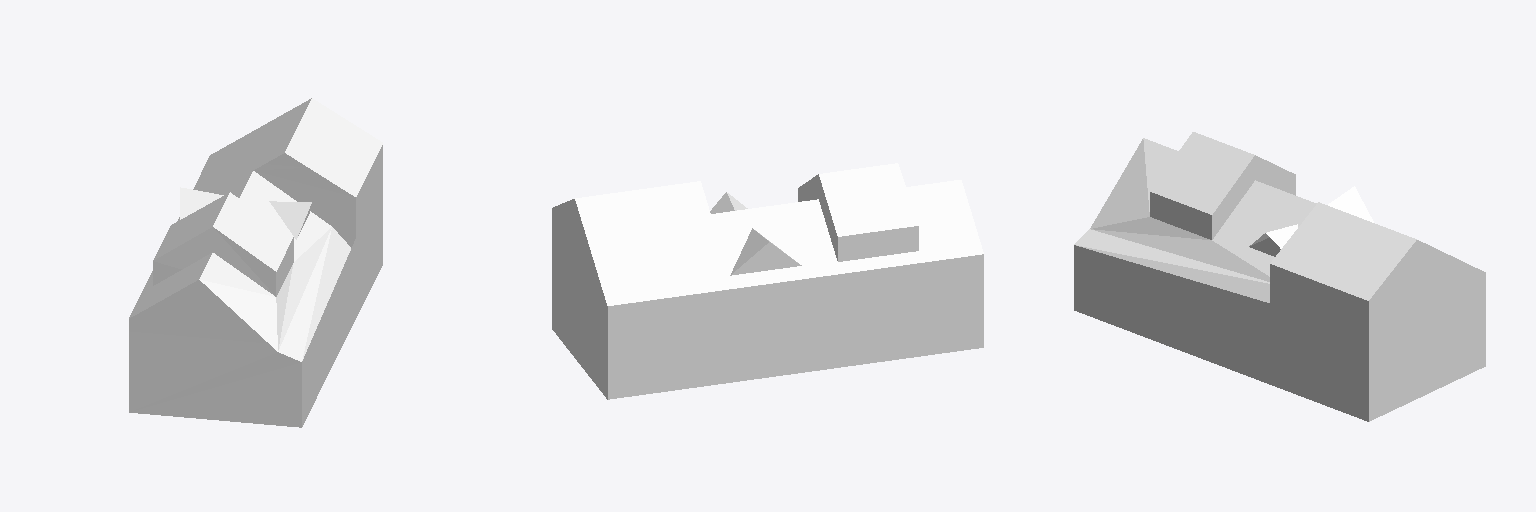
File: house_Shape 352.obj
3 views of the same model, side by side, from view 1: azimuth 30°, elevation 25°; view 2: azimuth 150°, elevation 25°; view 3: azimuth 270°, elevation 25° (orthographic).
Parts seen in each view (by area): view 1: CityEngineMaterial_12, CityEngineMaterial_82, CityEngineMaterial_84, CityEngineMaterial_212; view 2: CityEngineMaterial_12, CityEngineMaterial_84, CityEngineMaterial_82, CityEngineMaterial_212; view 3: CityEngineMaterial_12, CityEngineMaterial_84, CityEngineMaterial_82, CityEngineMaterial_212.
Part boxes in pixels (x1,y1,x2,y2): CityEngineMaterial_12: (129, 98, 382, 361); CityEngineMaterial_82: (129, 164, 355, 427); CityEngineMaterial_84: (153, 185, 382, 426); CityEngineMaterial_212: (129, 145, 382, 343); CityEngineMaterial_12: (575, 163, 983, 305); CityEngineMaterial_84: (608, 242, 983, 399); CityEngineMaterial_82: (552, 174, 918, 399); CityEngineMaterial_212: (552, 199, 983, 318); CityEngineMaterial_12: (1074, 132, 1416, 302); CityEngineMaterial_84: (1074, 237, 1368, 421); CityEngineMaterial_82: (1150, 155, 1485, 421); CityEngineMaterial_212: (1270, 240, 1485, 340).
Bounding box in the file's own units: 19.92 × 9.11 × 20.72.